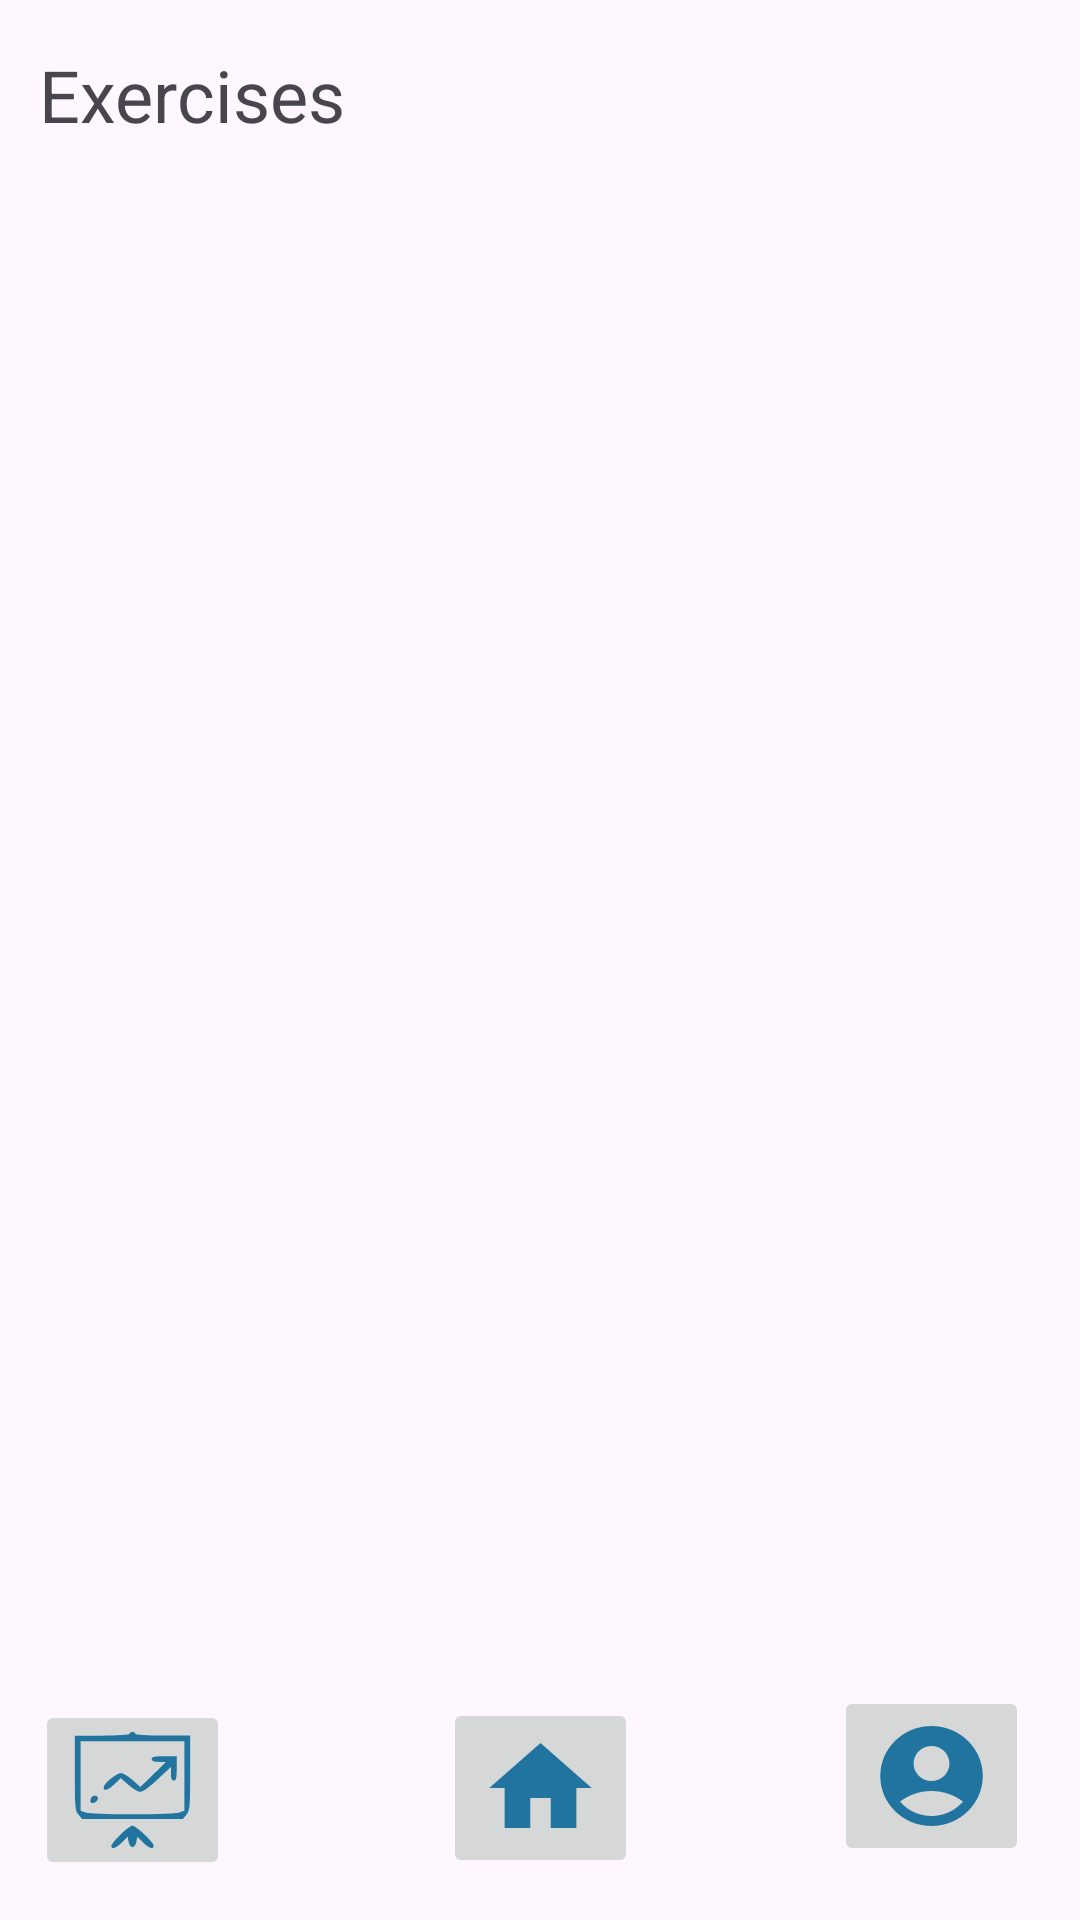

Named icons in this screenshot (1080px x 1920px) and their centers, (x=x, y=y):
account circle: (x=931, y=1776)
home: (x=540, y=1788)
statistics: (x=132, y=1790)
